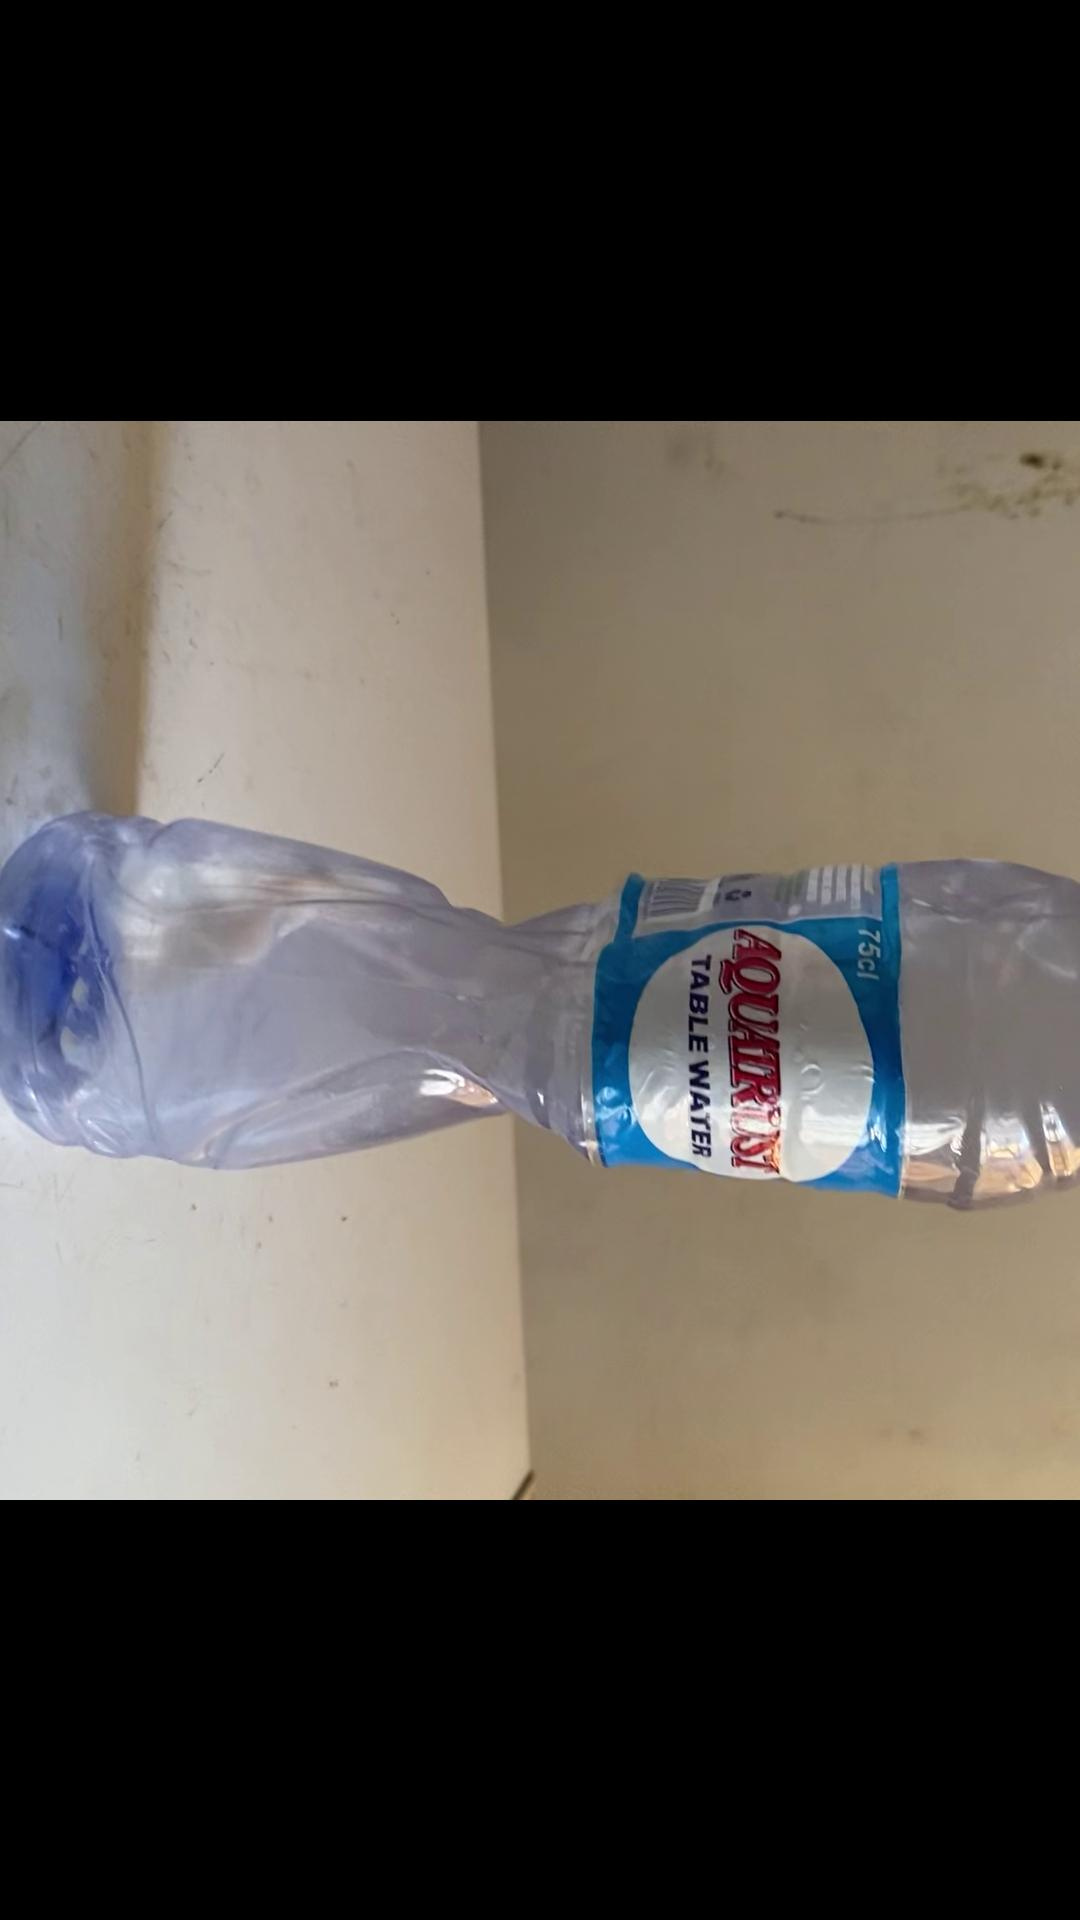crumbled: (0, 790, 1080, 1212)
label: (601, 861, 906, 1180)
